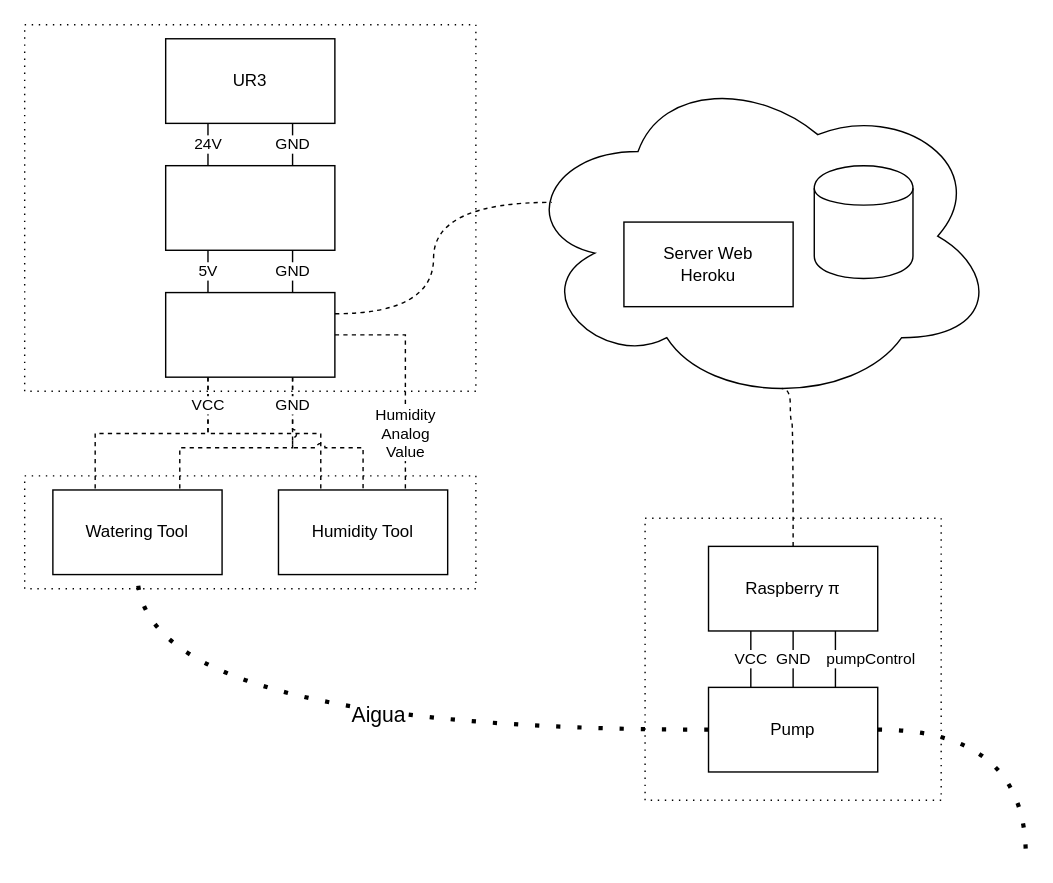
Image size: 1053x883. Some labels were removed from this diagram. Each missing label, with the box of its shape:
Buck Converter: (164, 164, 335, 250)
ESP32-CAM: (164, 291, 335, 377)
MongoDB: (813, 164, 913, 278)
